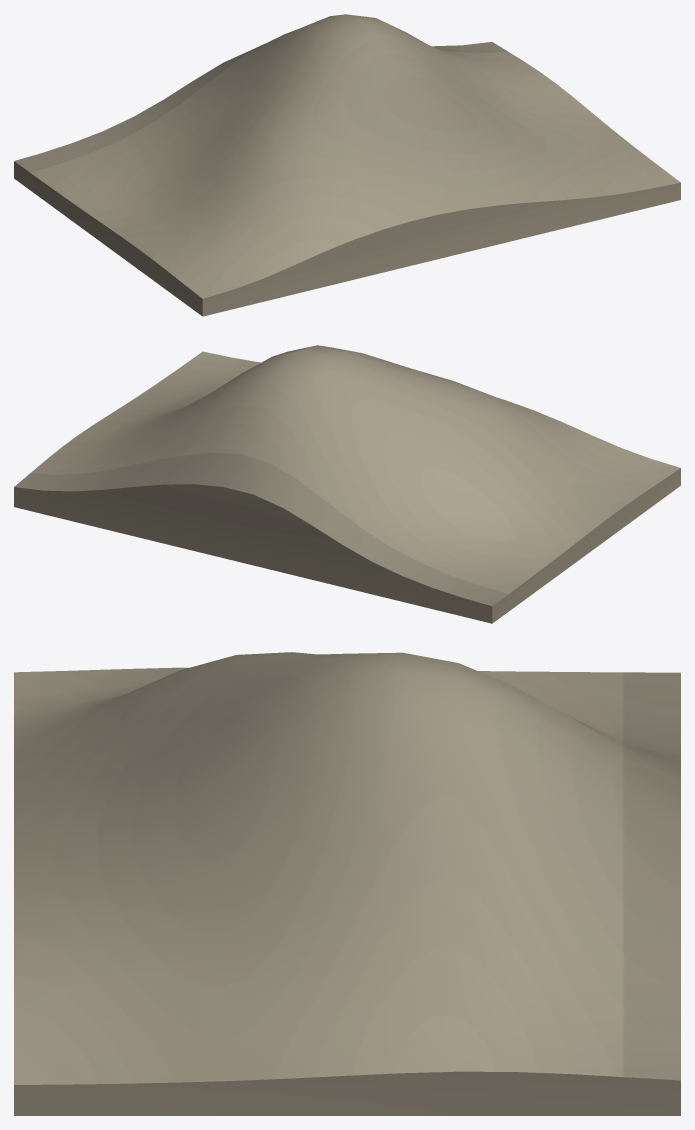
3 renders of one model, top to bottom at view 1: azimuth 30°, elevation 25°; view 2: azimuth 150°, elevation 25°; view 3: azimuth 270°, elevation 25°, orthographic. The views are drawn at different scales.
Visible parts, largest first — view 1: dutse; view 2: dutse; view 3: dutse.
Part boxes in pixels (<box>): dutse: <box>14,14,680,316</box>; dutse: <box>14,345,680,623</box>; dutse: <box>14,652,680,1115</box>.
Size of the model in its own units: 7.9 by 2.36 by 5.4.
1 material, 1 textured.
